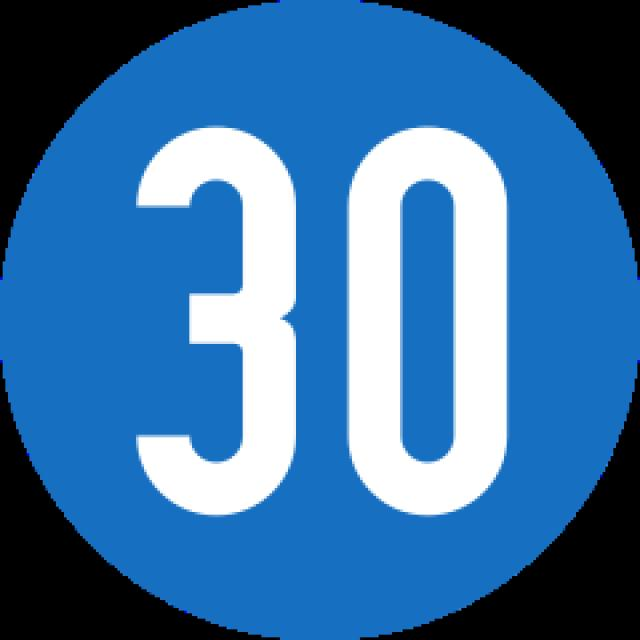Speed Limit -30-: (125, 113, 522, 526)
